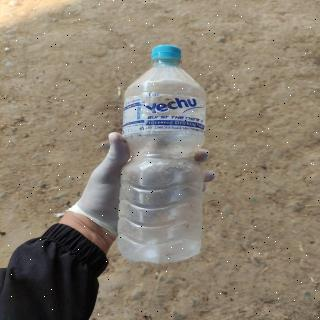Plastic-bottle: (114, 42, 211, 266)
